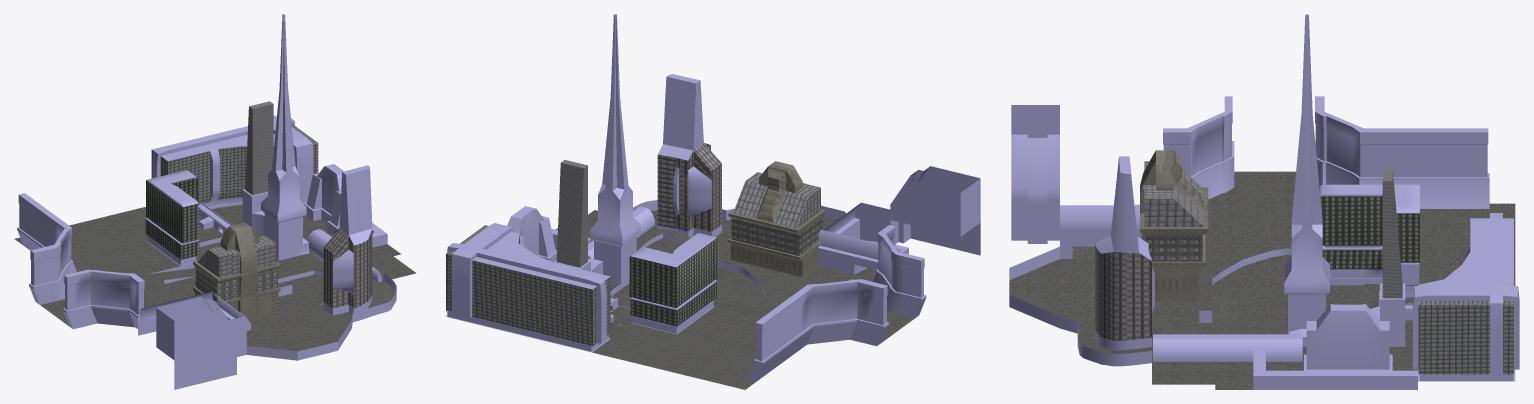
File: baseplate3.fbx
The picture shows the model from 3 angles, left to right: view 1: azimuth 30°, elevation 25°; view 2: azimuth 150°, elevation 25°; view 3: azimuth 270°, elevation 25°; orthographic projection. The views are drawn at different scales.
Parts seen in each view (by area): view 1: Plane; view 2: Plane; view 3: Plane.
Part boxes in pixels (x1,y1,x2,y2): Plane: [14, 14, 416, 389]; Plane: [445, 14, 980, 389]; Plane: [1009, 14, 1519, 389].
Bounding box in the file's own units: 161110 × 114625 × 164180.
